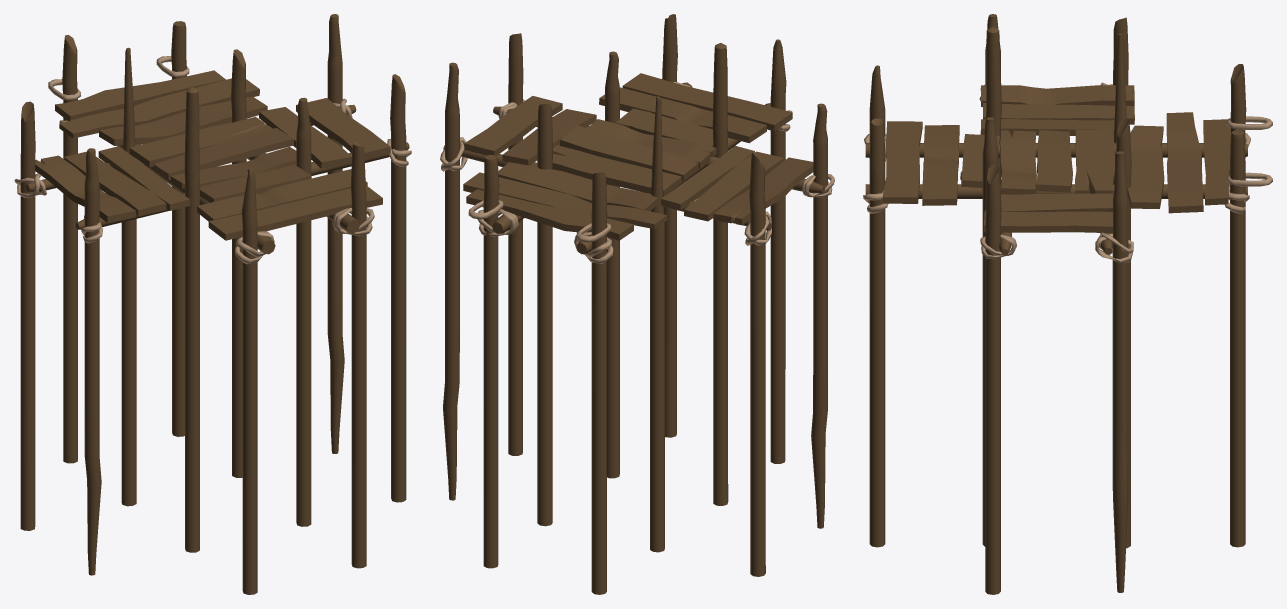
Rendered from woodenBridge_fourWay_mesh.fbx.
3 views of the same model, side by side, from view 1: azimuth 30°, elevation 25°; view 2: azimuth 150°, elevation 25°; view 3: azimuth 270°, elevation 25° (orthographic).
Visible parts, largest first — view 1: fourWay; view 2: fourWay; view 3: fourWay.
Part boxes in pixels (bbox=[...]): fourWay: bbox=[14, 14, 411, 594]; fourWay: bbox=[440, 14, 834, 594]; fourWay: bbox=[863, 14, 1272, 594].
Bounding box in the file's own units: 1.01 × 1.34 × 1.07.
